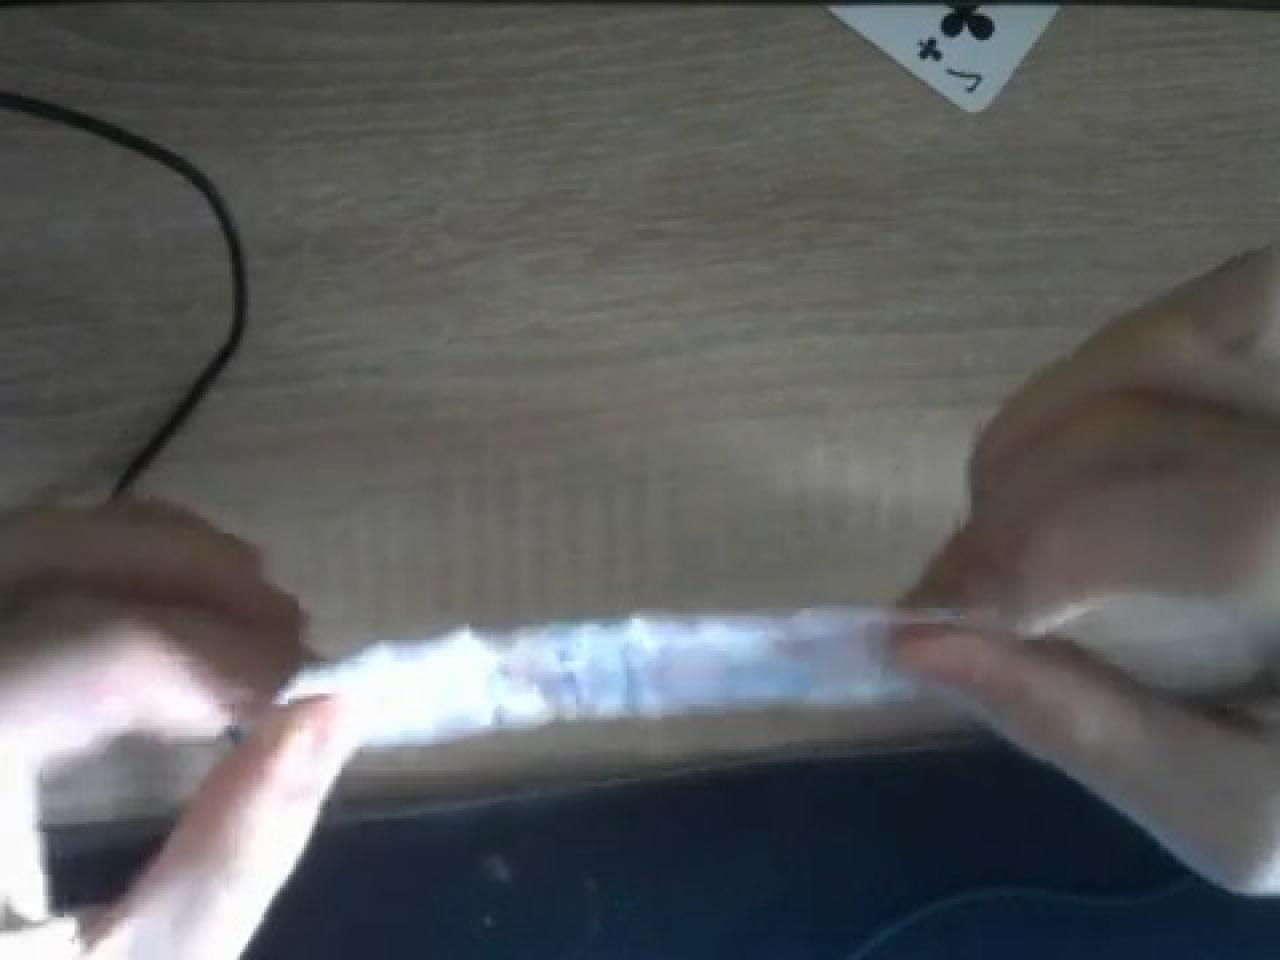5leva: (304, 603, 909, 741)
